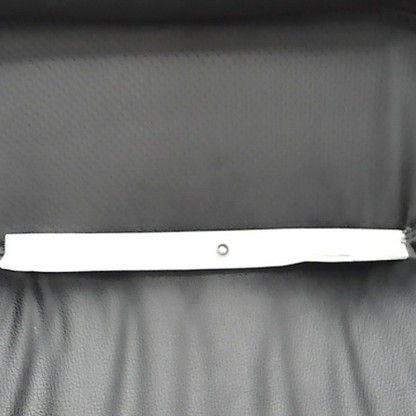ironball: (213, 239, 230, 259)
